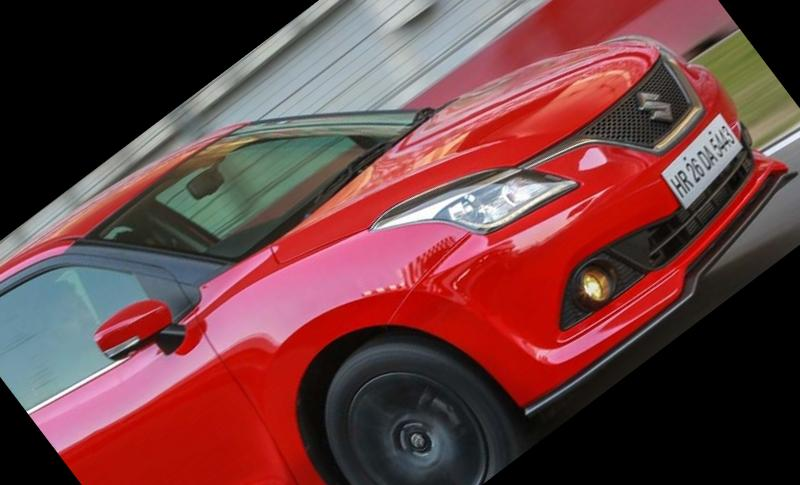plate: (647, 107, 765, 214)
